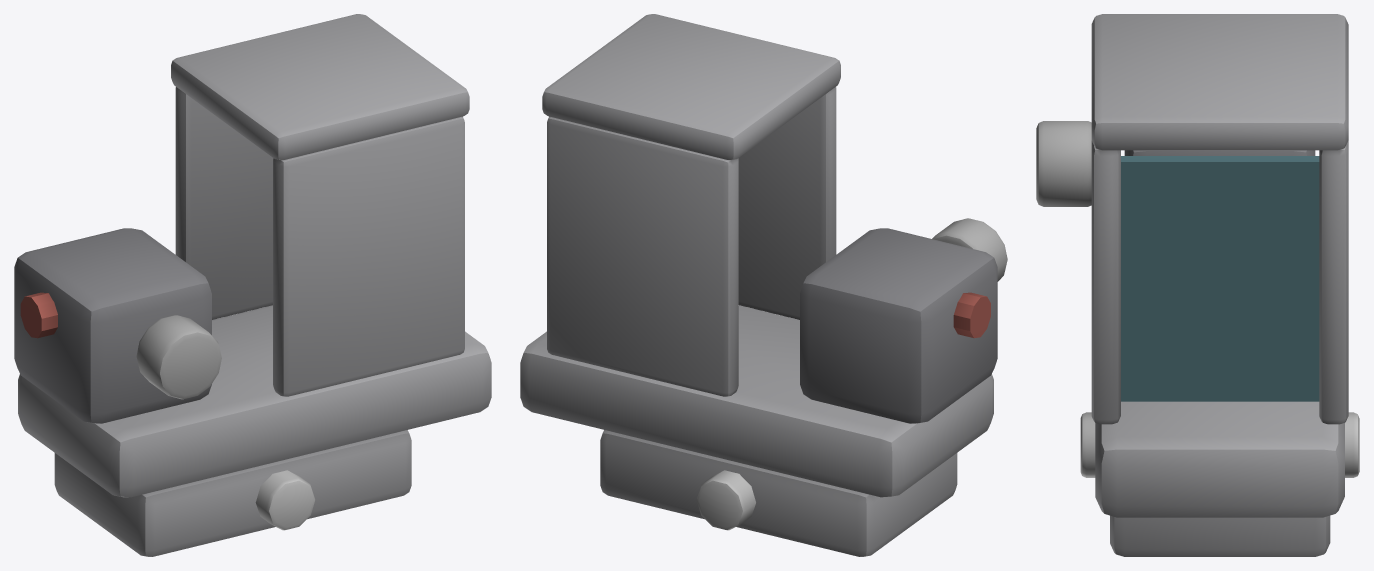
File: holo-sight.glb
3 views of the same model, side by side, from view 1: azimuth 30°, elevation 25°; view 2: azimuth 150°, elevation 25°; view 3: azimuth 270°, elevation 25° (orthographic). The views are drawn at different scales.
Visible parts, largest first — view 1: Body_lod0; view 2: Body_lod0; view 3: Body_lod0.
Boxes of the visible parts, x1=… form: Body_lod0: x1=14, y1=14, x2=491, y2=556; Body_lod0: x1=520, y1=14, x2=1007, y2=556; Body_lod0: x1=1036, y1=14, x2=1359, y2=556.
Size of what is drawn, in the model's own units: 0.076 by 0.0705 by 0.044.
